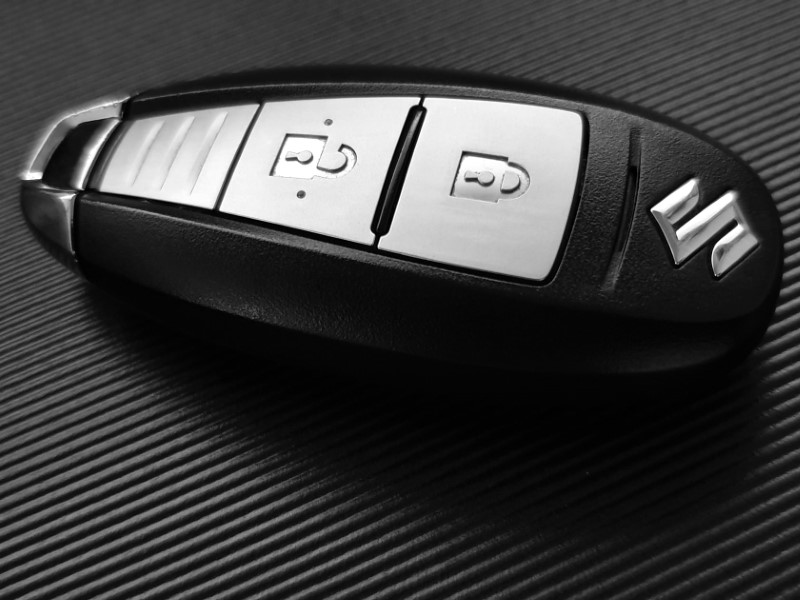carkey: (14, 76, 790, 391)
